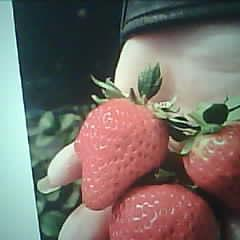straw-ripe: (79, 97, 170, 209)
